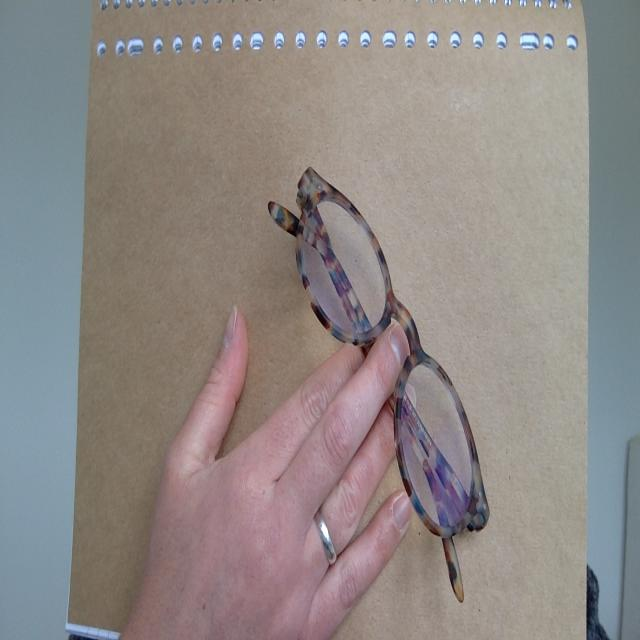glasses: (261, 151, 512, 607)
